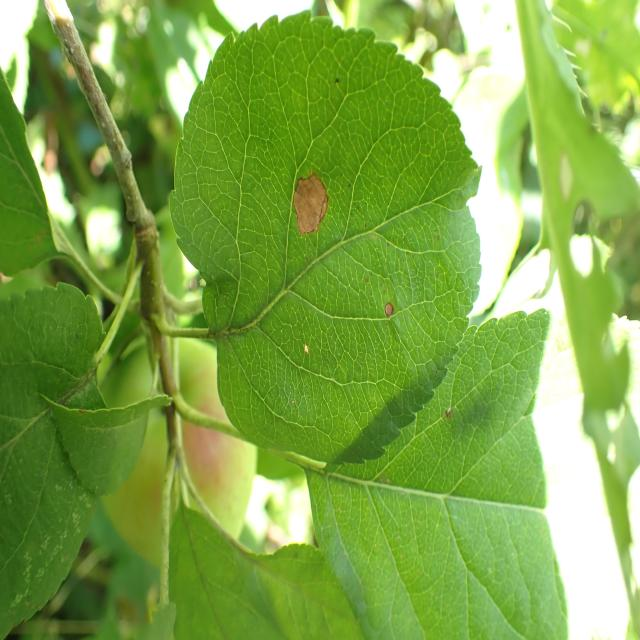Black Rot: (285, 156, 338, 260), (366, 270, 400, 336)
